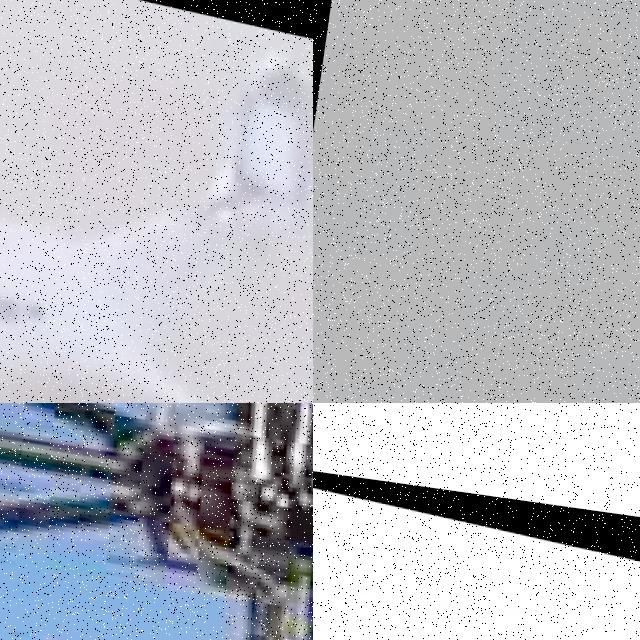0: (0, 403, 313, 640)
drone: (0, 0, 313, 403), (313, 442, 640, 640)
